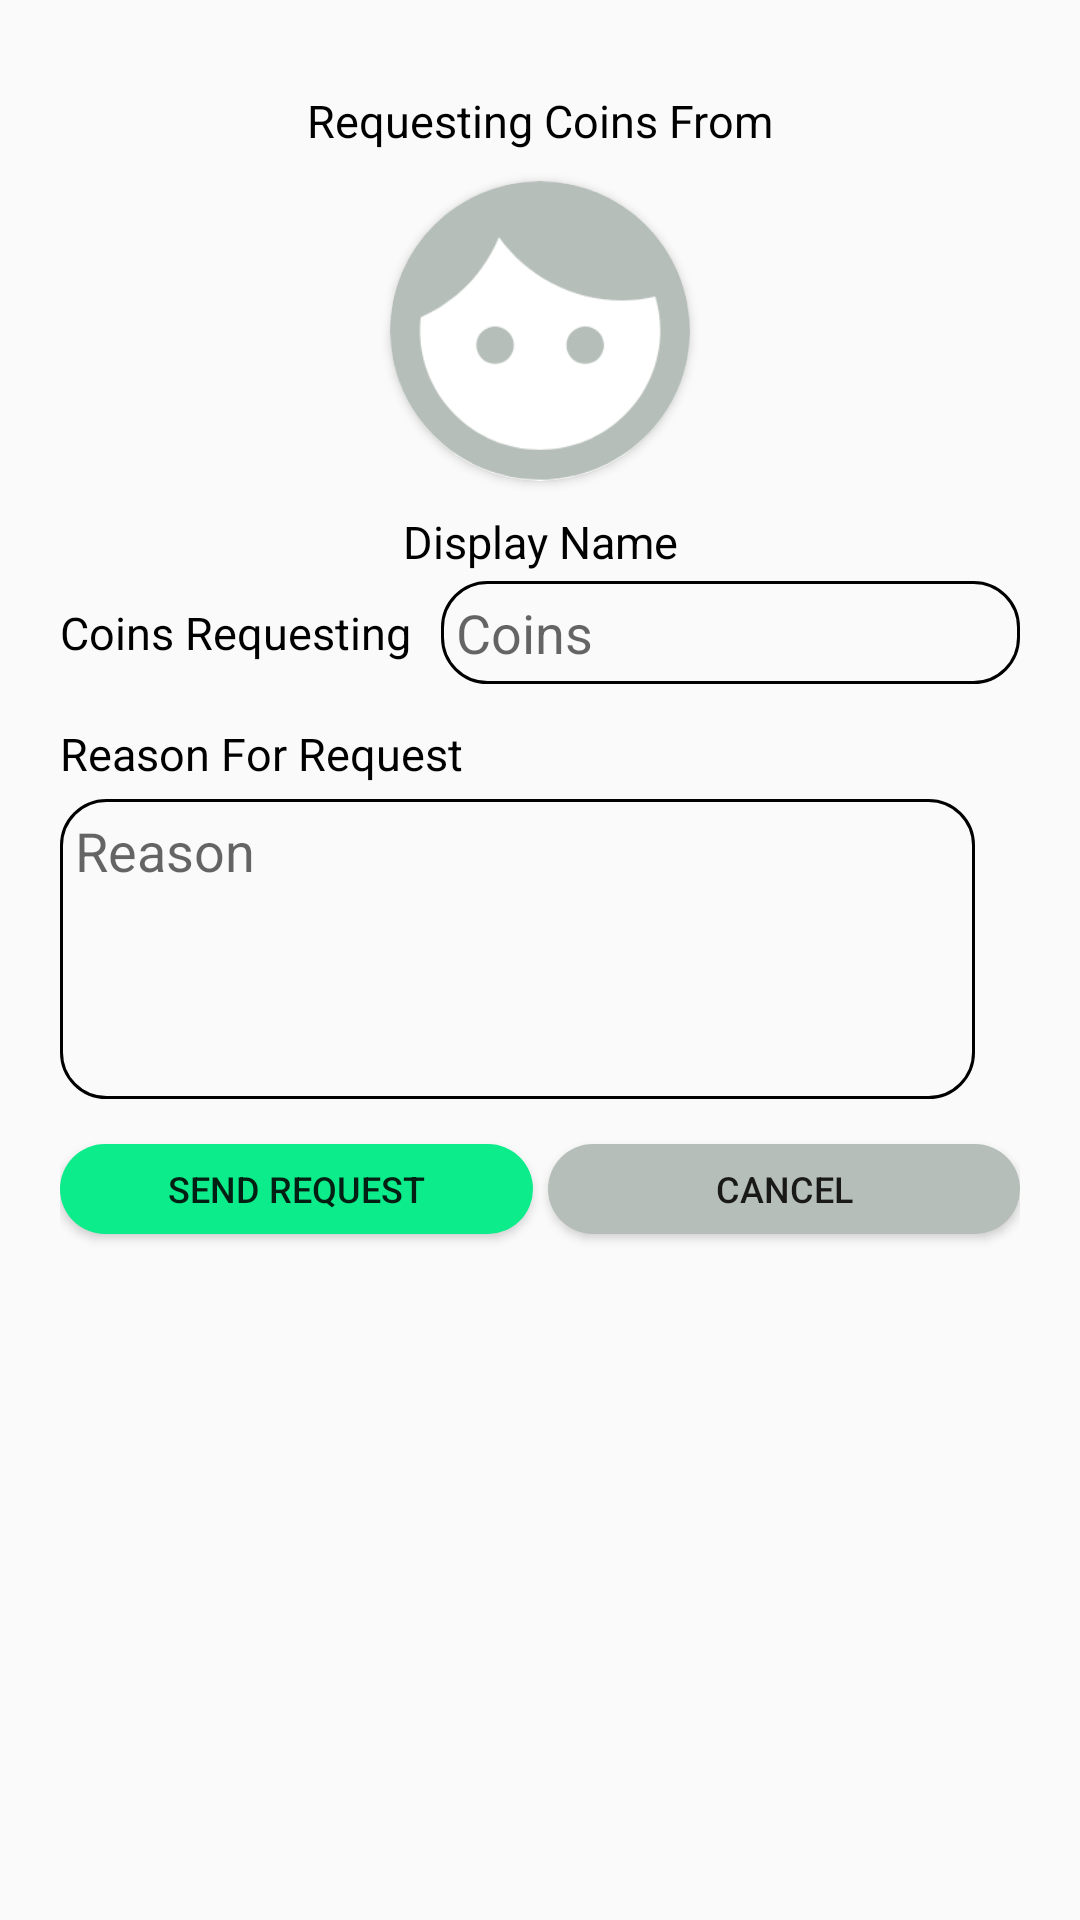

Icon bounding boxes for this 1080px x 1920px phone screenshot, format box=[x1, y1, x2, y2]:
User profile picture: box=[390, 181, 690, 481]
